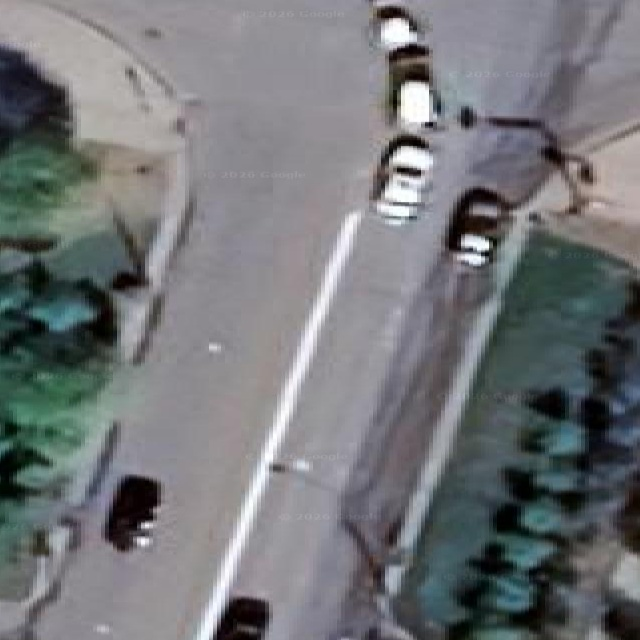car: (371, 134, 433, 224), (446, 187, 508, 267), (387, 43, 441, 131), (104, 475, 160, 550), (372, 2, 422, 53), (213, 597, 270, 639)
